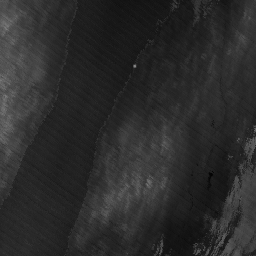Target: (131, 63, 137, 69)
